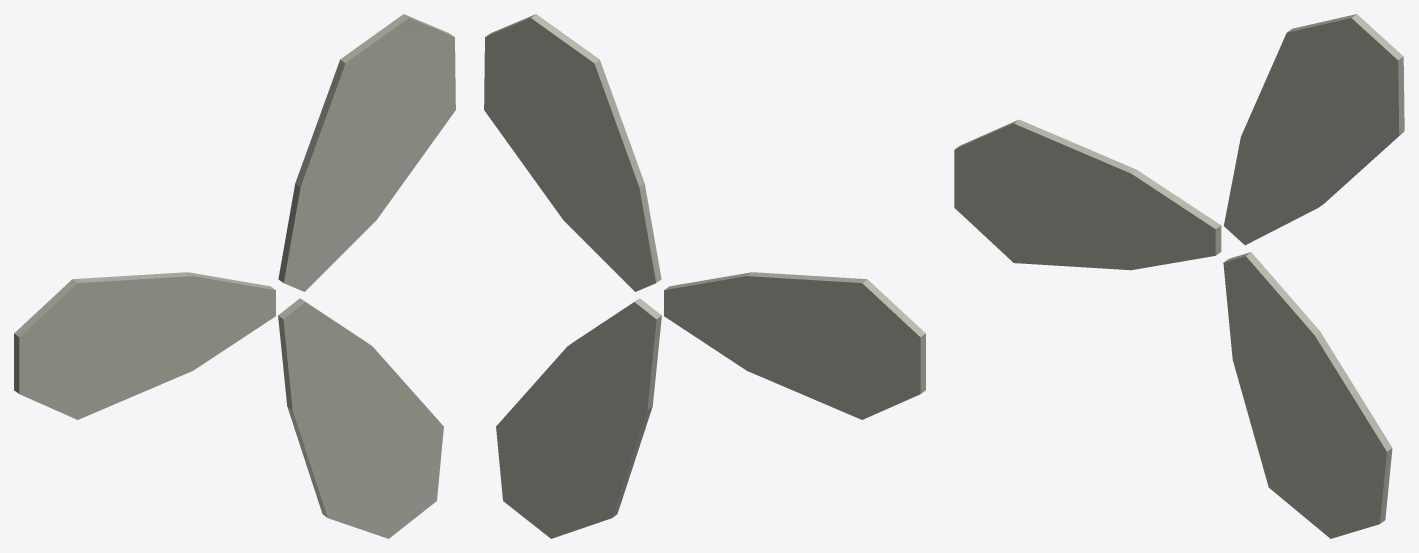
Rendered from ventfan.fbx.
3 views of the same model, side by side, from view 1: azimuth 30°, elevation 25°; view 2: azimuth 150°, elevation 25°; view 3: azimuth 330°, elevation 25° (orthographic).
Visible parts, largest first — view 1: polySurface992; view 2: polySurface992; view 3: polySurface992.
Part boxes in pixels (box(x1,y1,x2,y2)): polySurface992: box(14, 14, 455, 538); polySurface992: box(484, 14, 925, 538); polySurface992: box(954, 14, 1404, 538).
Bounding box in the file's own units: 1.9 × 2.14 × 0.0405.
Materials: 1 (1 with a texture image).
